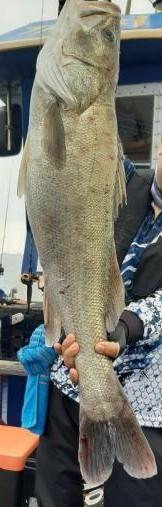fish: (17, 0, 156, 484)
